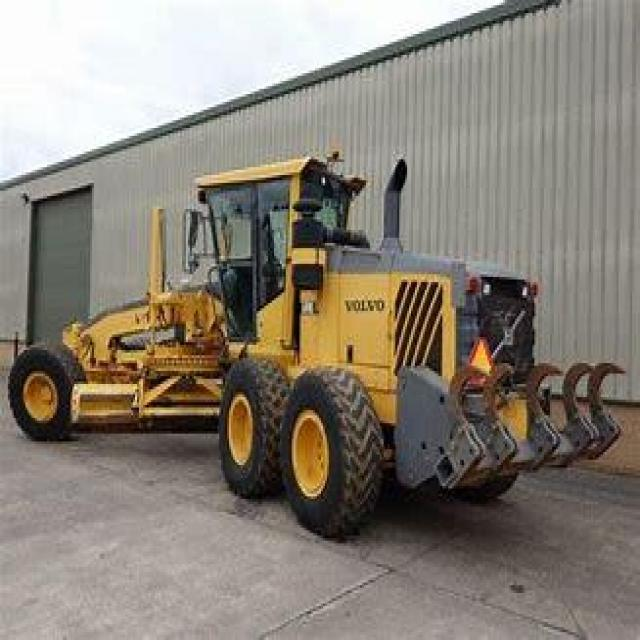Grader: (12, 141, 638, 543)
